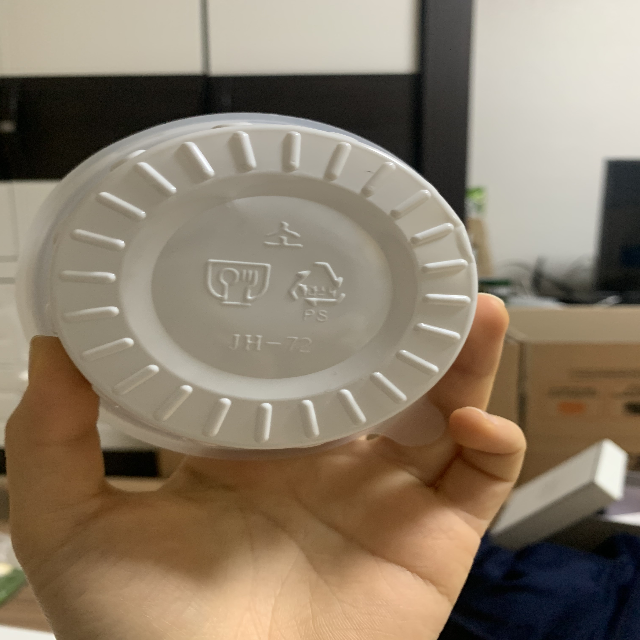ps: (288, 259, 343, 324)
